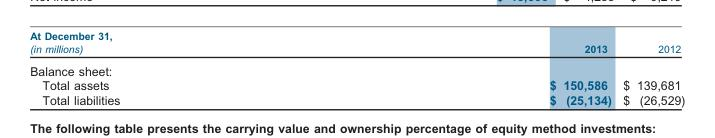table: (29, 29, 684, 106)
table column: (29, 29, 334, 106), (334, 29, 616, 106), (616, 29, 684, 106)
table column header: (29, 29, 684, 58)
table projected row header: (29, 58, 684, 77)
table row: (29, 29, 684, 58), (29, 58, 684, 77), (29, 77, 684, 92), (29, 92, 684, 106)
